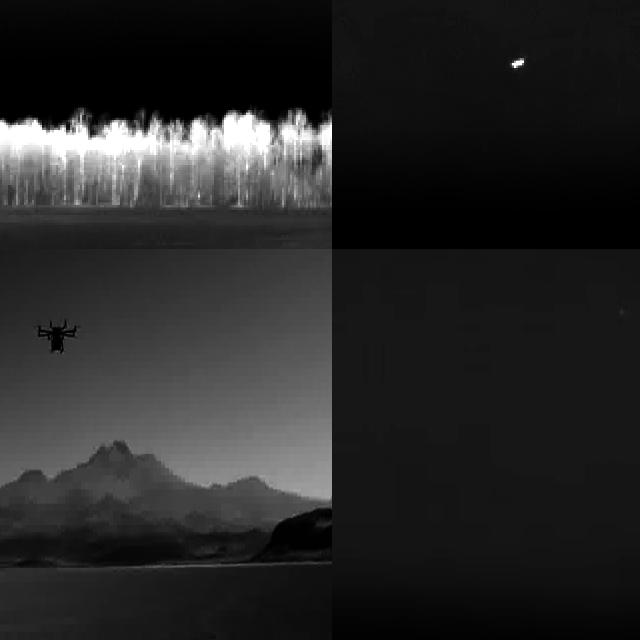0: (612, 303, 634, 325)
1: (502, 50, 538, 80)
drone: (38, 318, 78, 357)
